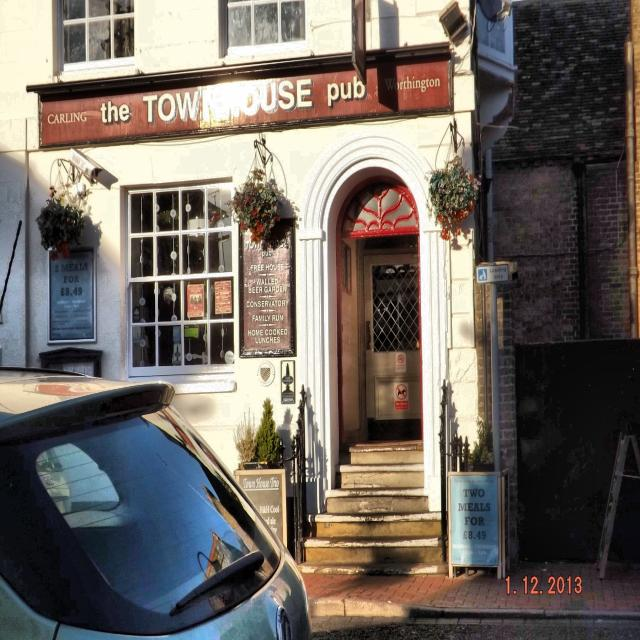escada: (300, 446, 442, 567)
